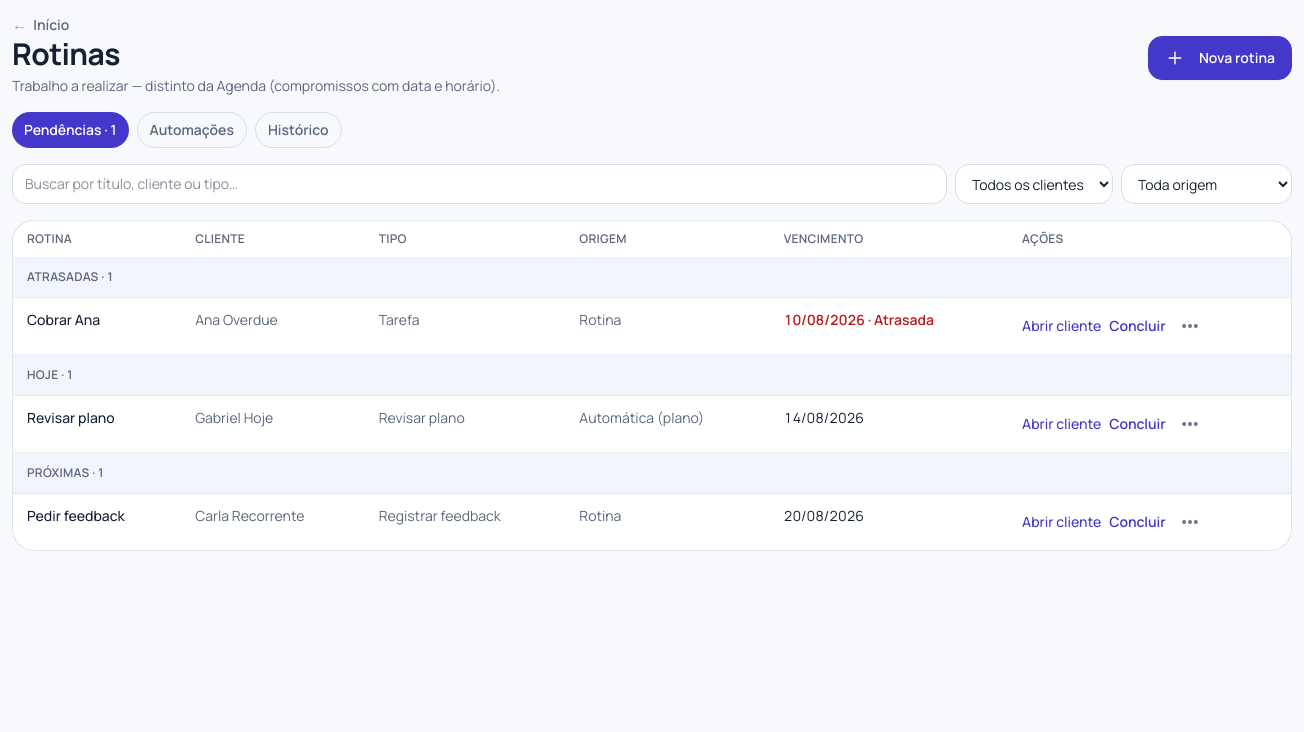
Scenario: RoutinesPageInner desktop — central de trabalho densa › never offers Concluir/Adiar/Cancelar again on a cancelled or completed occurrence
The image size is (1304, 732).
Expected: the table is shown, [13, 221, 1291, 550]
Click the tab "Histórico" at coordinates (298, 130), box [255, 112, 342, 148]
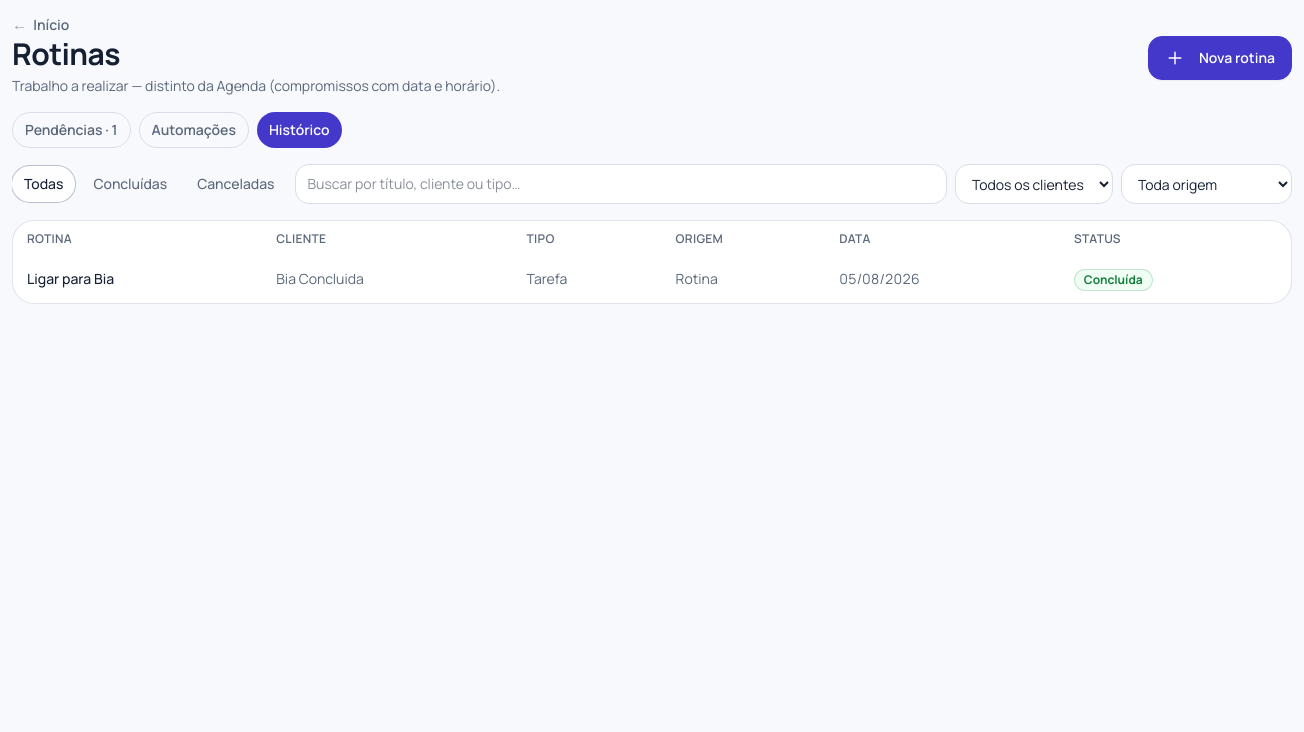
Now the button "Concluir" is gone
Now the text "Concluída" is shown, box [1074, 269, 1153, 291]
